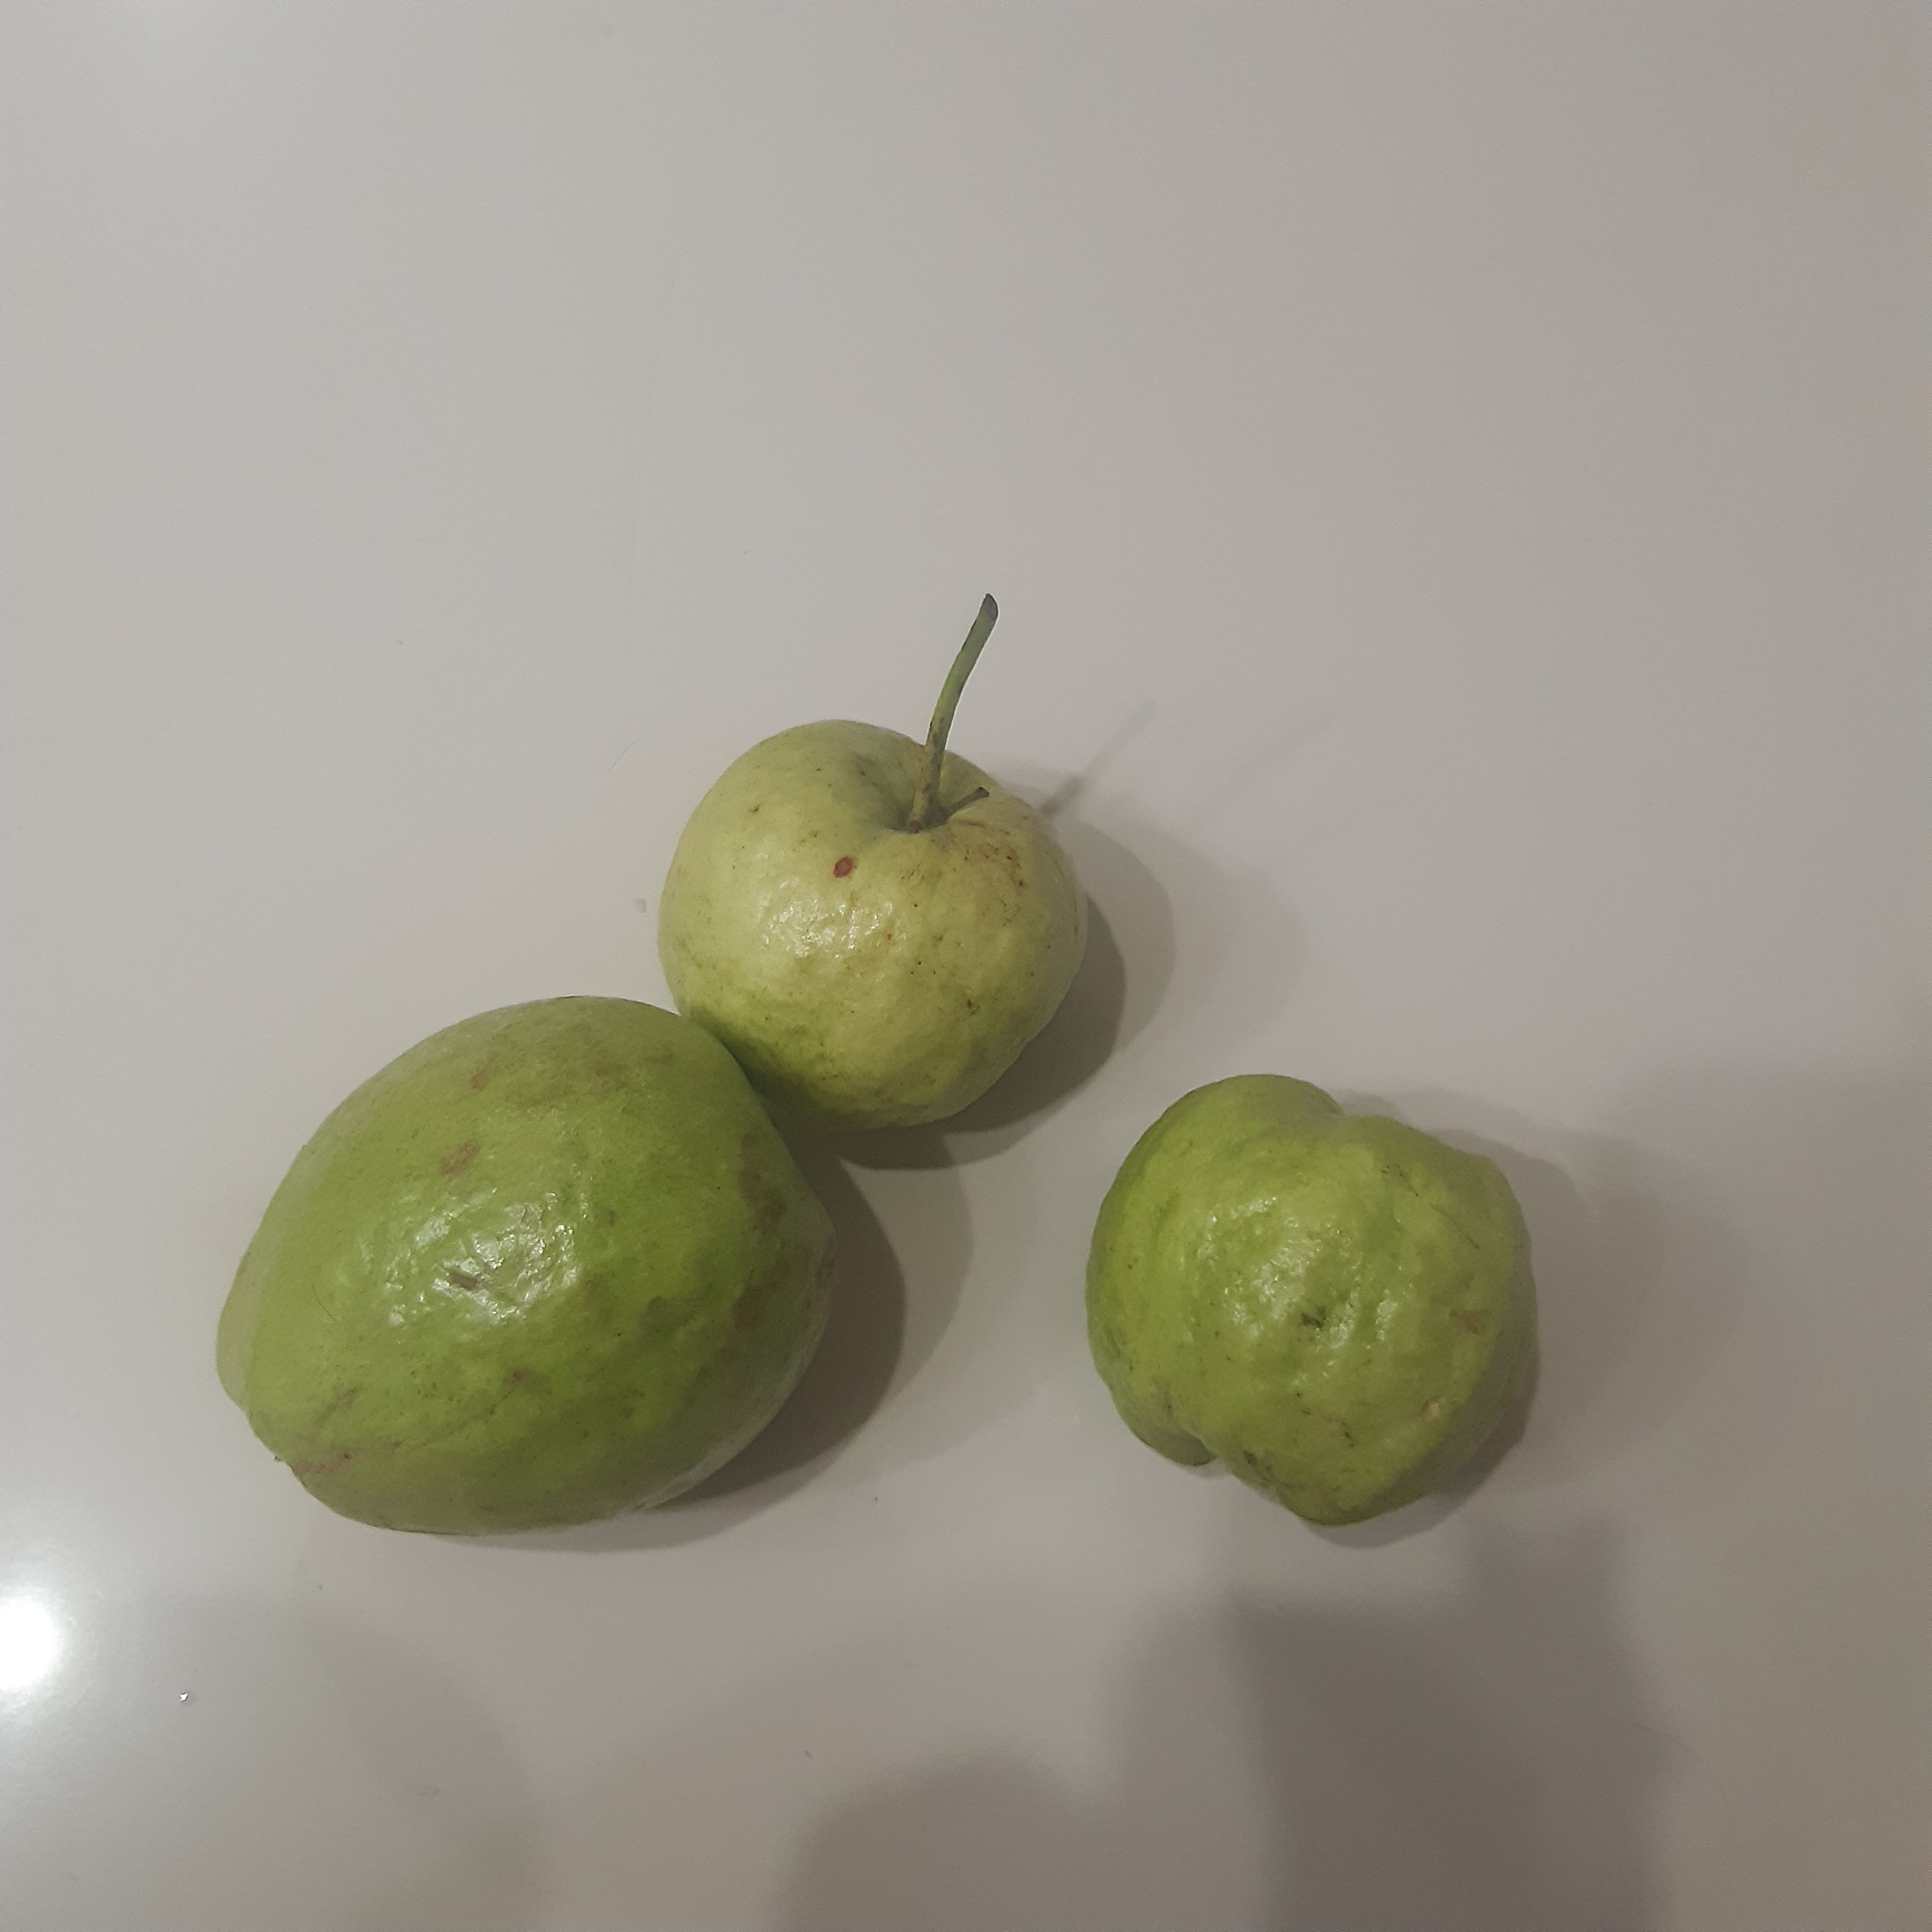Oi: (214, 996, 844, 1537), (1086, 1076, 1536, 1525), (658, 722, 1088, 1136)
